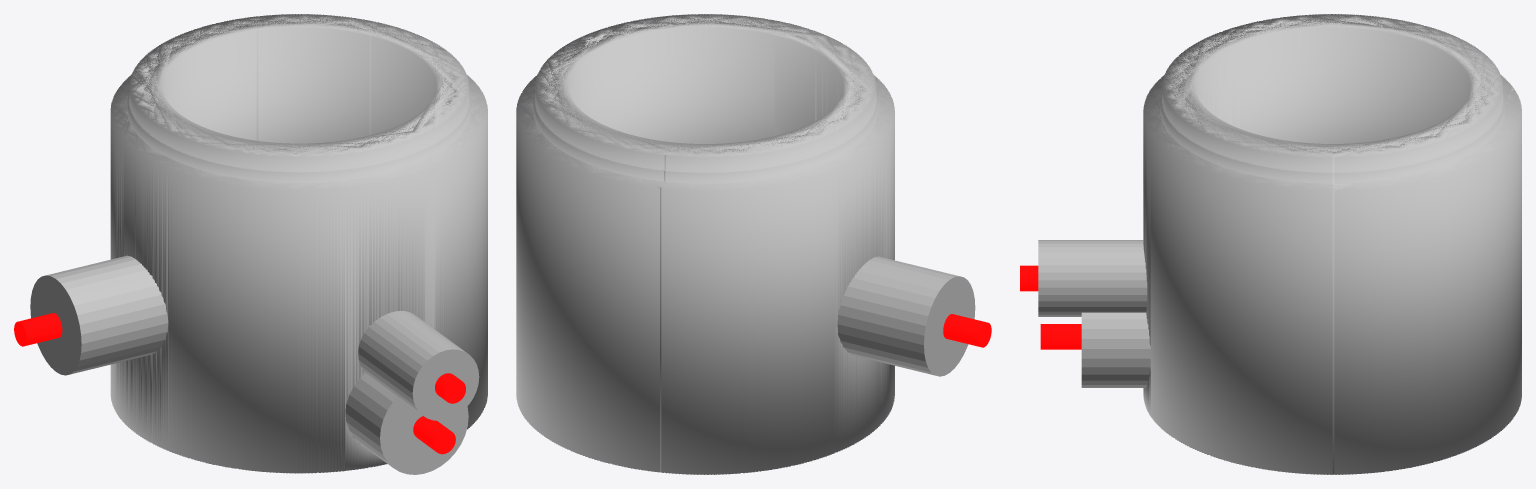
File: LOT129_523ae9da.glb
The picture shows the model from 3 angles, left to right: view 1: azimuth 30°, elevation 25°; view 2: azimuth 150°, elevation 25°; view 3: azimuth 270°, elevation 25°; orthographic projection.
Parts seen in each view (by area): view 1: 1200x1.219r_Obj, Cylinder.003, Cylinder.001, Cylinder.005; view 2: 1200x1.219r_Obj, Cylinder.003; view 3: 1200x1.219r_Obj, Cylinder.001.
Part boxes in pixels (bbox=[...]): 1200x1.219r_Obj: bbox=[30, 14, 487, 474]; Cylinder.003: bbox=[14, 313, 62, 346]; Cylinder.001: bbox=[413, 416, 455, 454]; Cylinder.005: bbox=[435, 373, 465, 403]; 1200x1.219r_Obj: bbox=[516, 14, 975, 474]; Cylinder.003: bbox=[943, 314, 991, 347]; 1200x1.219r_Obj: bbox=[1038, 14, 1521, 474]; Cylinder.001: bbox=[1040, 324, 1081, 349].
Size of the model in its own units: 1.99 by 1.33 by 1.95.
